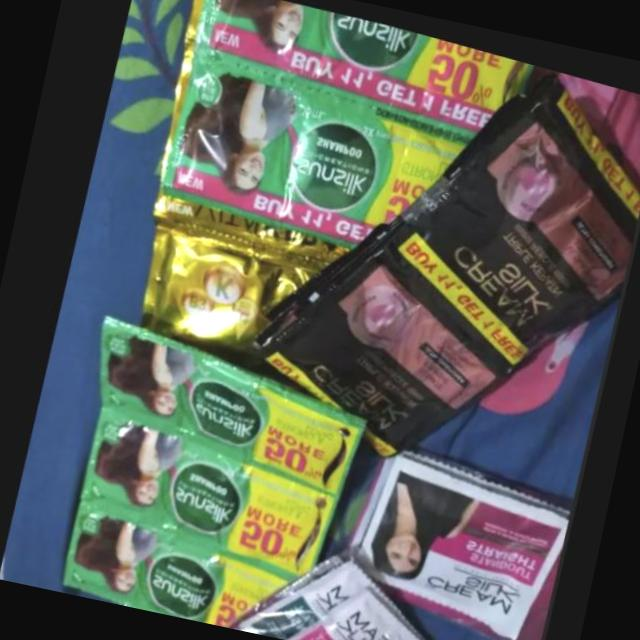goi_nhua_nho: (370, 72, 637, 365), (246, 218, 511, 453), (156, 42, 470, 238), (95, 315, 364, 494), (79, 408, 333, 575), (189, 0, 527, 124), (354, 445, 568, 634), (137, 193, 344, 352), (62, 504, 287, 626), (223, 550, 434, 640)
